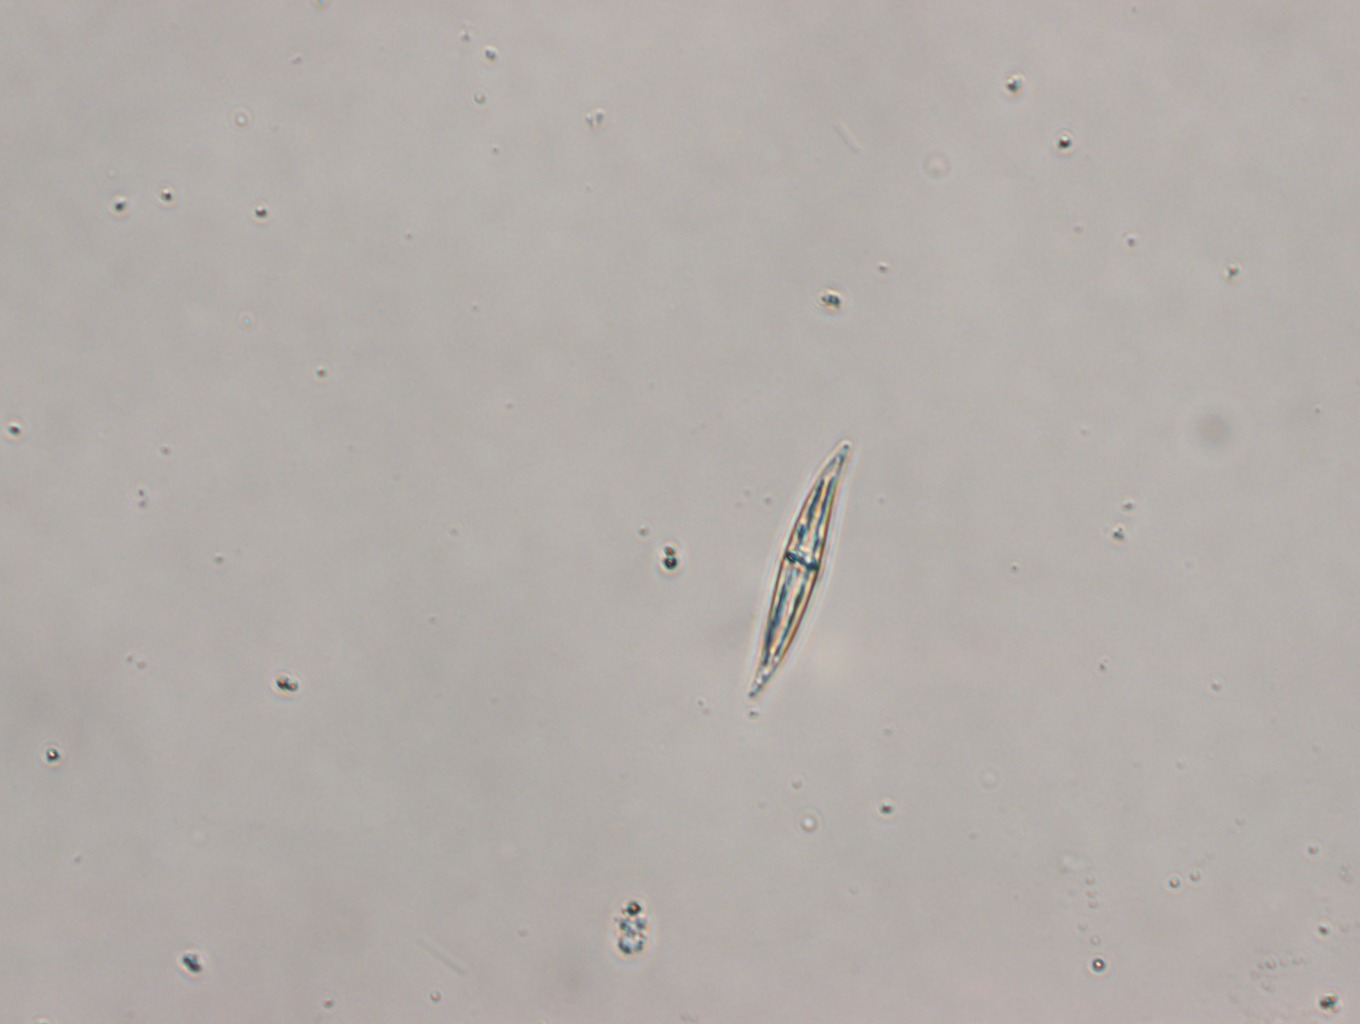pleurosigma pelagicum: (746, 429, 857, 701)
